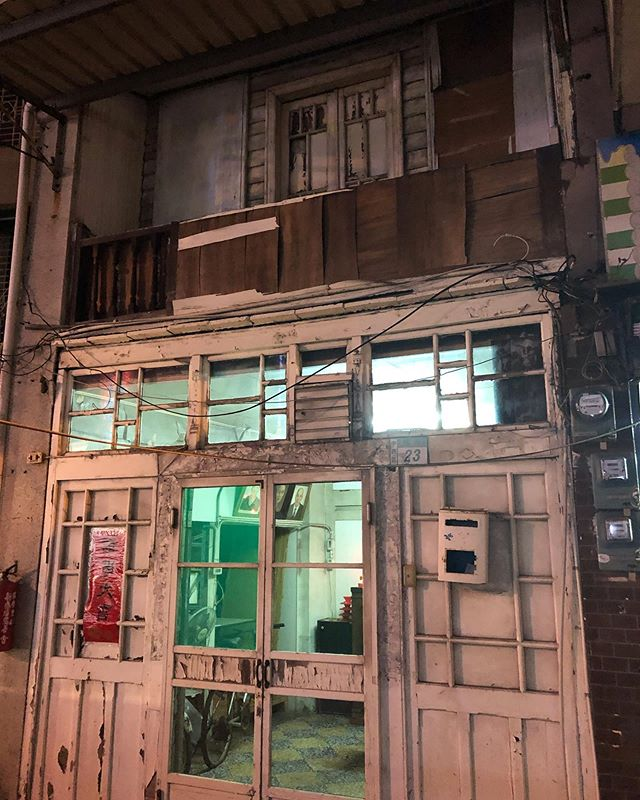door: (153, 470, 379, 800)
window: (40, 354, 556, 452), (259, 66, 435, 247)
